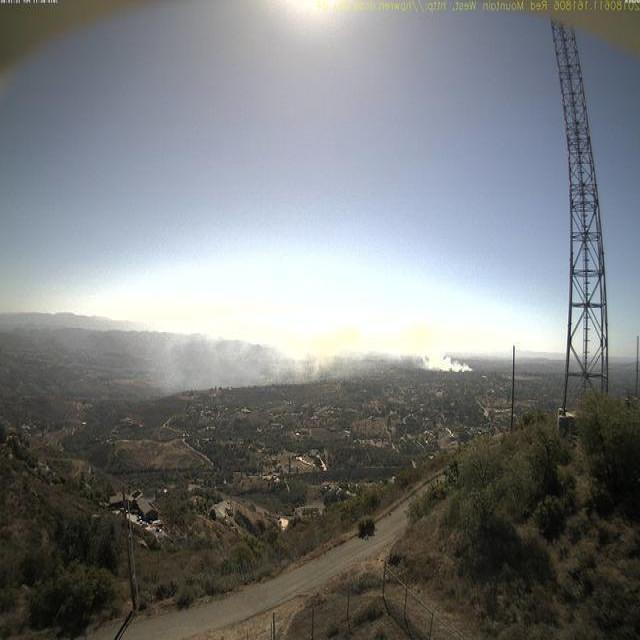Smoke: (271, 329, 472, 383)
